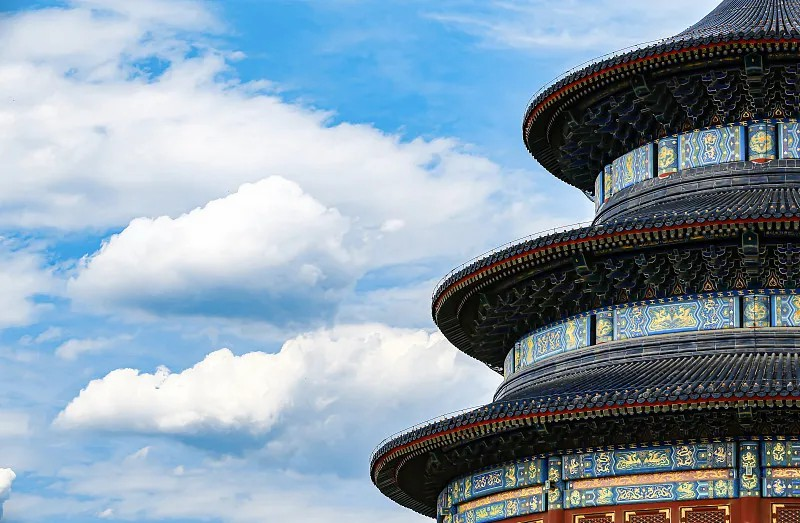Heaven: (367, 1, 800, 523)
